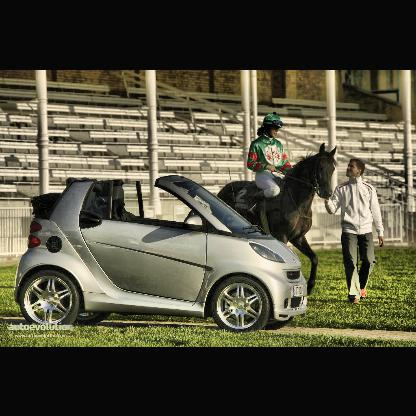smart fortwo Convertible 2012: (15, 177, 312, 334)
